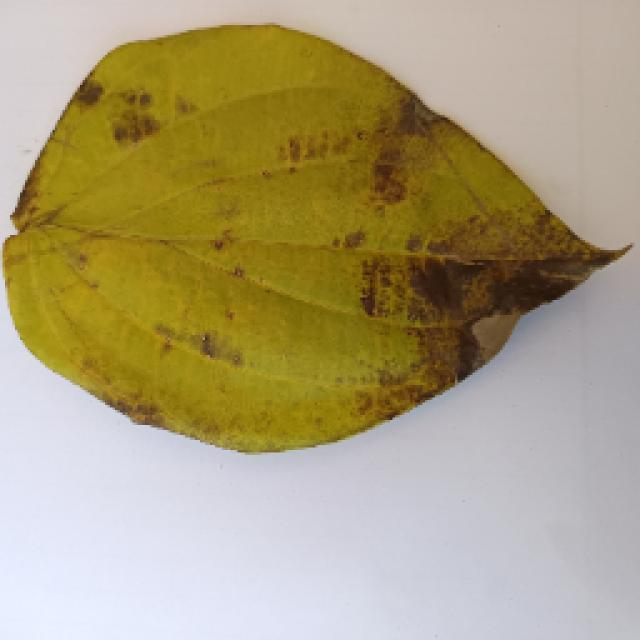slow-decline: (0, 30, 618, 480)
